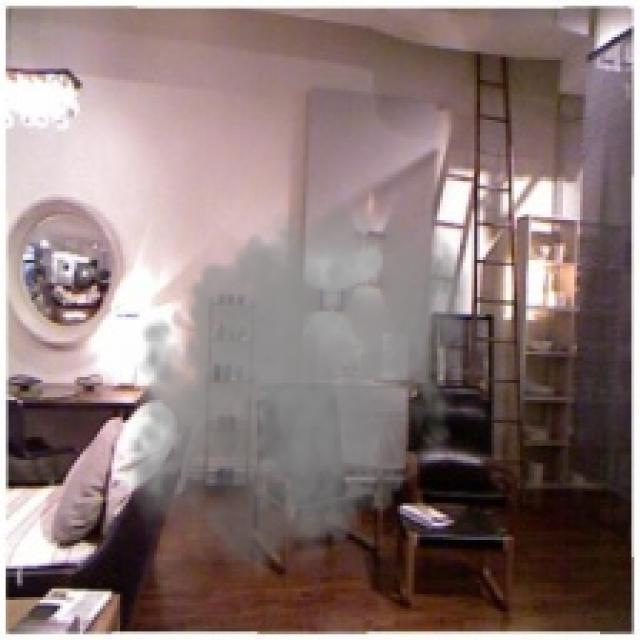smoke: (117, 186, 474, 597)
